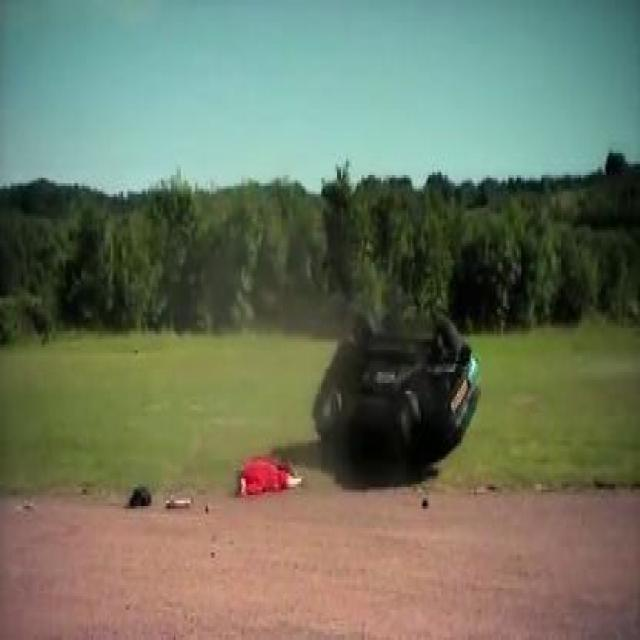accident: (310, 293, 484, 484)
